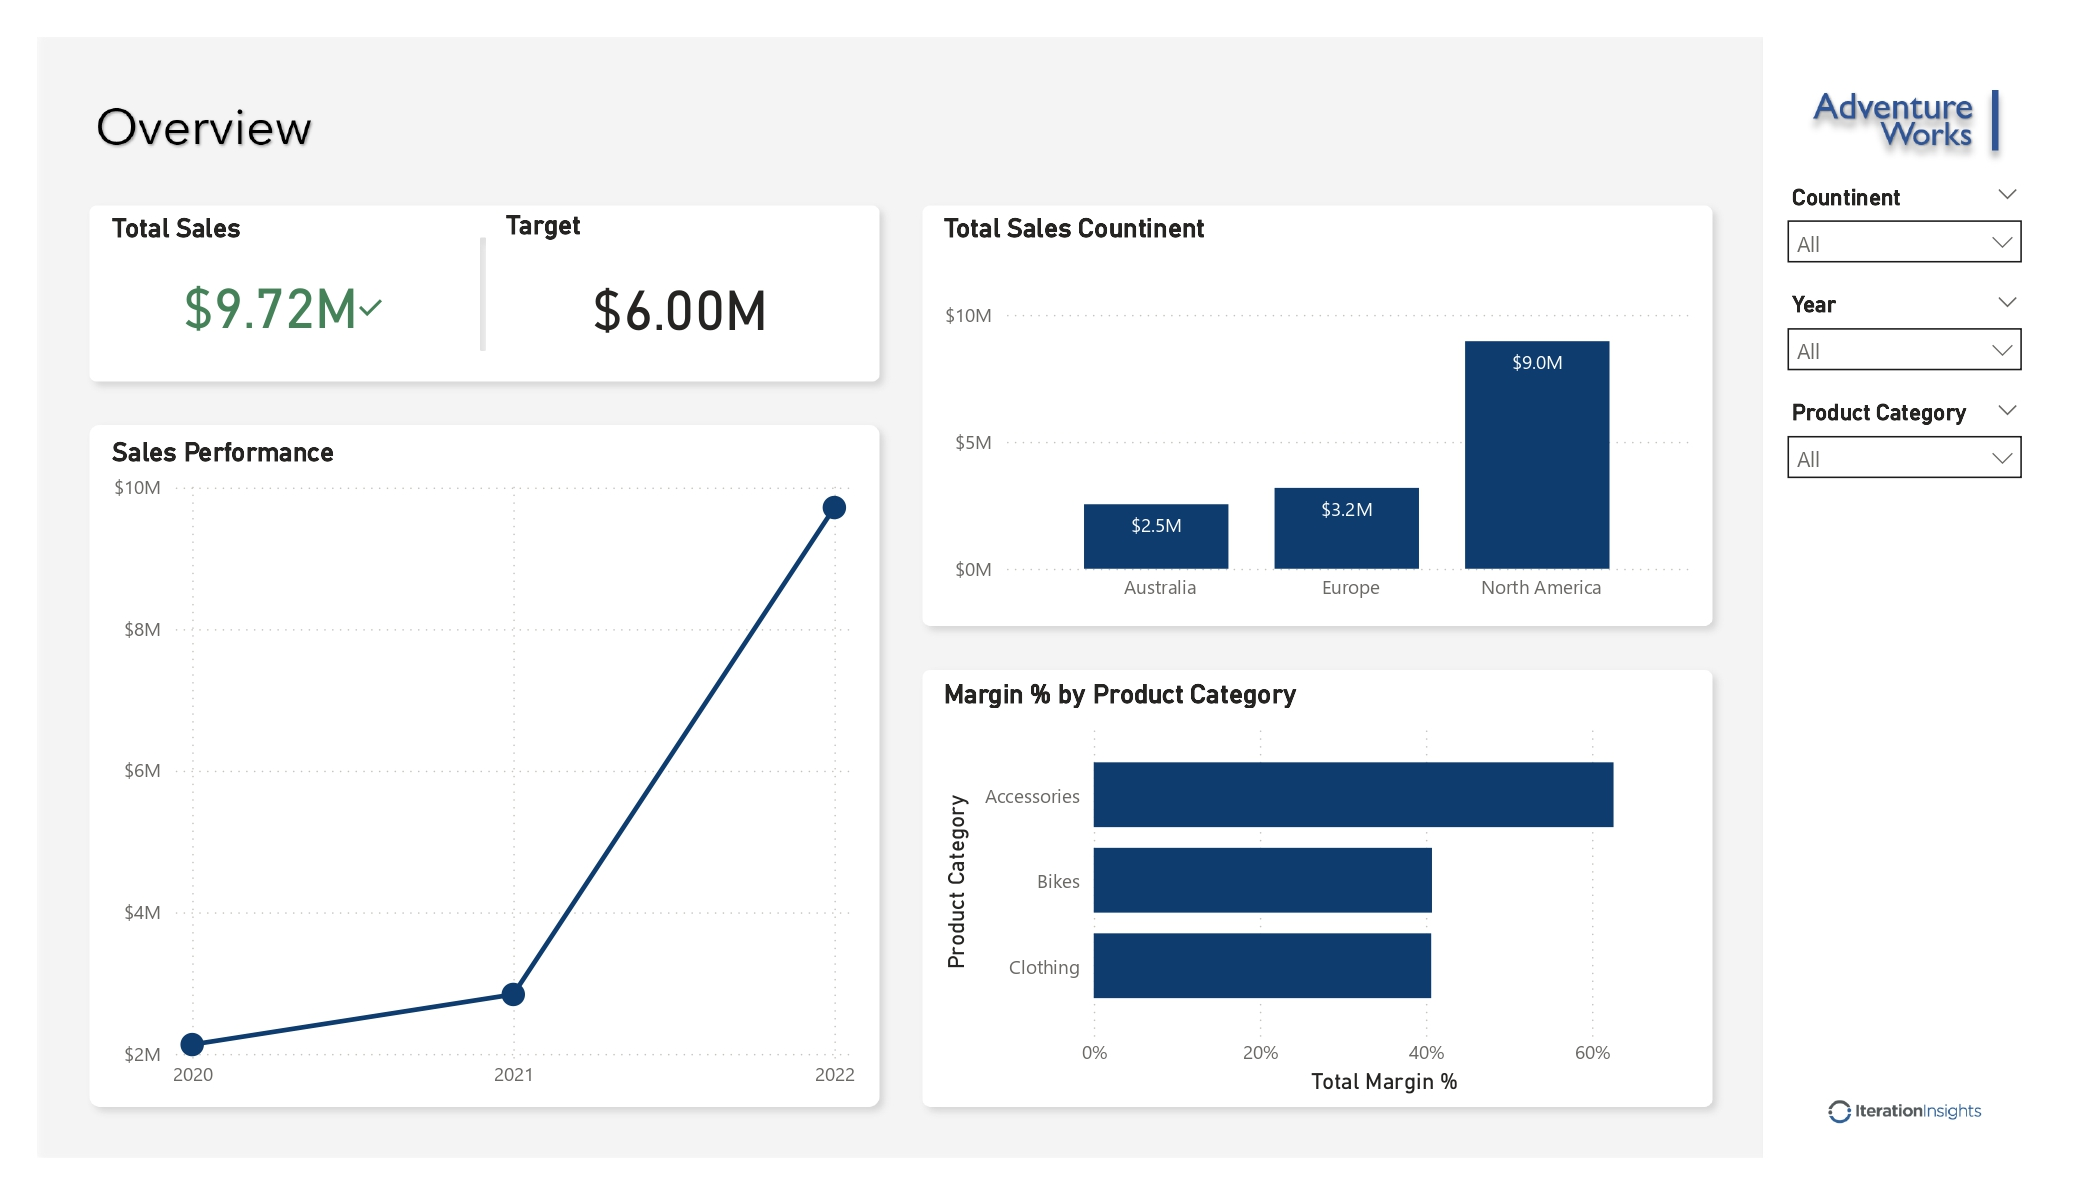

What the dashboard file says about the page in this screenshot:
{"tool":"powerbi","page":{"name":"Overview","canvas":[1280,720],"ordinal":0},"visuals":[{"type":"clusteredColumnChart","title":"Total Sales  Countinent","fields":{"Category":["Sales Territory.Sales Territory Countinent"],"Y":["Sales.Total Sales"]},"box":[575.5,111.8,490,258.2],"z":0},{"type":"slicer","title":"Countinent","fields":{"Values":["Sales Territory.Sales Territory Countinent"]},"box":[1110,88.9,170,75.6],"z":5000},{"type":"clusteredBarChart","title":"Margin % by Product Category","fields":{"Category":["Product.Product Hierarchy.Product Category","Product.Product Hierarchy.Product Subcategory"],"Y":["Sales.Total Margin %"]},"box":[575.5,410,490,270.9],"z":5500},{"type":"slicer","title":"Year","fields":{"Values":["Order Date.Order Date Year"]},"box":[1110,157.8,170,68.9],"z":6000},{"type":"slicer","title":"Product Category","fields":{"Values":["Product.Product Hierarchy.Product Category"]},"box":[1110,226.7,170,68.9],"z":7000},{"type":"lineChart","title":"Sales Performance ","fields":{"Y":["Sales.Total Sales"],"Category":["Order Date.Order Date Hierarchy.Order Date Year","Order Date.Order Date Hierarchy.Order Date Month","Order Date.Order Date Hierarchy.Order Date"]},"box":[43.3,255,485,426.7],"z":7125},{"type":"card","title":"Target","fields":{"Values":["Sales.Target"]},"box":[295,110,233.3,103.3],"z":7250},{"type":"kpi","title":"Total Sales","fields":{"Indicator":["Sales.Total Sales"],"TrendLine":["Order Date.Order Date Year"],"Goal":["Sales.Target"]},"box":[43.3,111.7,226.7,101.7],"z":7500}]}

Visuals, with their boxes on the page's 1280x720 design canvas (x1, y1, x2, y2). These are canvas units, not pixel positions in the 2075x1200 screenshot, which may show the page scaled, cropped or inside an application window:
"Total Sales  Countinent" clusteredColumnChart: l=576, t=112, r=1066, b=370
"Countinent" slicer: l=1110, t=89, r=1280, b=164
"Margin % by Product Category" clusteredBarChart: l=576, t=410, r=1066, b=681
"Year" slicer: l=1110, t=158, r=1280, b=227
"Product Category" slicer: l=1110, t=227, r=1280, b=296
"Sales Performance " lineChart: l=43, t=255, r=528, b=682
"Target" card: l=295, t=110, r=528, b=213
"Total Sales" kpi: l=43, t=112, r=270, b=213
